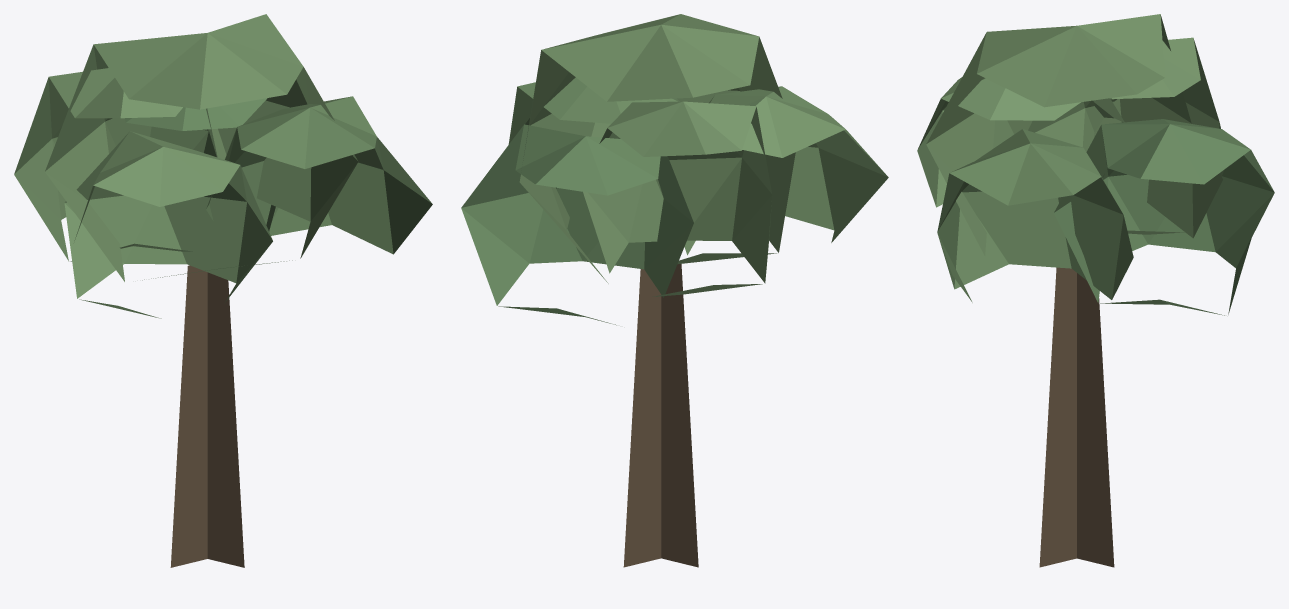
File: tree_temperate_oak.glb
The picture shows the model from 3 angles, left to right: view 1: azimuth 30°, elevation 25°; view 2: azimuth 150°, elevation 25°; view 3: azimuth 270°, elevation 25°; orthographic projection.
Bounding box in the file's own units: 1.13 × 1.83 × 1.08.
